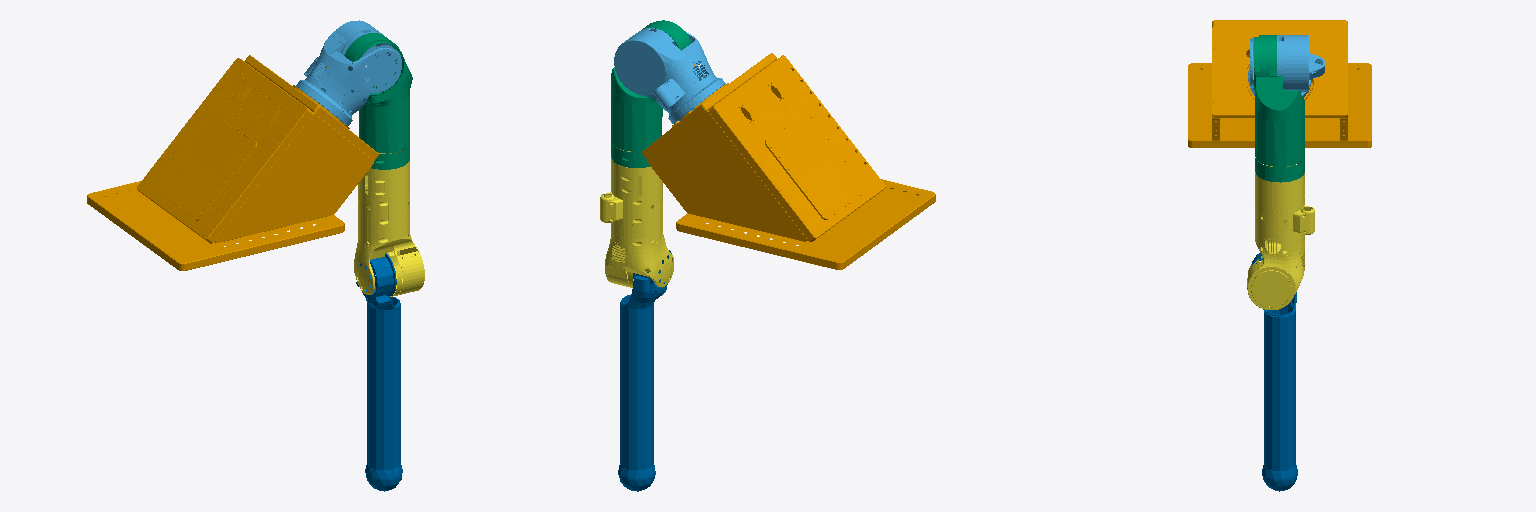
URDF robot description (nadia):
<?xml version = "1.0" ?>
<robot name="nadia" xmlns:xacro="http://www.ros.org/wiki/xacro">
<joint name="LEFT_SHOULDER_Y" type="revolute">
    <origin rpy="0.78539816 0.0  -1.57079632679" xyz="0.13144909 0 0.11023589" />
    <axis xyz="0.0 1.0 0.0" />
    <parent link="TORSO_LINK" />
    <child link="LEFT_SHOULDER_PITCH_LINK" />
    <limit effort="1000" lower="-3.141592" upper="1.22173" velocity = "100" />
    <dynamics damping="0.05" friction="0.0"/>
</joint>
<joint name="LEFT_SHOULDER_X" type="revolute">
    <origin rpy="-0.785398163 0.0 0.0" xyz="0.0 0.15676000 -0.01300000" />
    <axis xyz="1 0 0" />
    <parent link="LEFT_SHOULDER_PITCH_LINK" />
    <child link="LEFT_SHOULDER_ROLL_LINK" />
    <limit effort="1000" lower="-0.261799" upper="2.87979" velocity = "100" />
    <dynamics damping="0.05" friction="0.0"/>
</joint>
<joint name="LEFT_SHOULDER_Z" type="revolute">
    <origin rpy="0.0 0.0 0.0" xyz="0.0 0.035 0.0" />
    <axis xyz="0.0 0.0 1.0" />
    <parent link="LEFT_SHOULDER_ROLL_LINK" />
    <child link="LEFT_SHOULDER_YAW_LINK" />
    <limit effort="1000" lower="-1.91986" upper="1.22173" velocity = "100" />
    <dynamics damping="0.05" friction="0.0"/>
</joint>
<joint name="LEFT_ELBOW_Y" type="revolute">
    <origin rpy="0.0 0.0 0.0" xyz="0.015 0.0 -0.4" />
    <axis xyz="0.0 1.0 0.0" />
    <parent link="LEFT_SHOULDER_YAW_LINK" />
    <child link="LEFT_ELBOW_PITCH_LINK" />
    <limit effort="1000" lower="-2.35619" upper="0.174532925" velocity = "100" />
    <dynamics damping="0.05" friction="0.0"/>
</joint>
<link name="TORSO_LINK">
  <inertial>
    <mass value="13.75252575"/>
    <origin rpy="0 0 0" xyz="0.0488461900 0.0000587900 0.0707804300"/>
    <inertia ixx="0.1666638600" ixy="-0.0000199200" ixz="-0.0578881300" iyy="0.2305939100" iyz="-0.0000724700" izz="0.2604723800" />
	
  </inertial>
  <visual>
    <geometry>
      <mesh filename="package://nadia_V17_description/meshes/cycloidal_arm/TORSO_LINK.obj"/>
    </geometry>
    <origin rpy="0.0 0.0 0.0" xyz="0.0 0.0 0.0"/>
  </visual>
</link>
<link name="LEFT_SHOULDER_PITCH_LINK">
  <inertial>
    <mass value="2.917"/>
    <origin rpy="0 0 0" xyz="-0.00117 0.1400097 -0.00621"/>
    <inertia ixx="0.0108367" ixy="1.356e-4" ixz="-2.666e-5" iyy="0.00498324" iyz="0.00090758" izz="0.01142661" />
  </inertial>
  <visual>
    <geometry>
      <mesh filename="package://nadia_V17_description/meshes/cycloidal_arm/LEFT_SHOULDER_PITCH_LINK.obj"/>
    </geometry>
    <origin rpy="0.0 0.0 0.0" xyz="0.0 0.0 0.0"/>
  </visual>
</link>


<link name="LEFT_SHOULDER_ROLL_LINK">
  <inertial>
    <mass value="1.17068"/>
    <origin rpy="0 0 0" xyz="0.01053 0.02124 -0.1052690"/>
    <inertia ixx="0.00787035" ixy="1.667e-4" ixz="-0.00075945" iyy="0.00727481" iyz="0.000988837" izz="0.00182144" />
  </inertial>
  <visual>
    <geometry>
      <mesh filename="package://nadia_V17_description/meshes/cycloidal_arm/LEFT_SHOULDER_ROLL_LINK.obj"/>
    </geometry>
    <origin rpy="0.0 0.0 0.0" xyz="0.0 0.0 0.0"/>
  </visual>
</link>
<link name="LEFT_SHOULDER_YAW_LINK">
  <inertial>
    <mass value="2.53059"/>
    <origin rpy="0 0 0" xyz="0.00479 0.00062 -0.3624141"/>
    <inertia ixx="0.02277422" ixy="5.053e-5" ixz="0.0012266" iyy="0.0225956" iyz="-2.571e-4" izz="0.00260312" />
  </inertial>
  <visual>
    <geometry>
      <mesh filename="package://nadia_V17_description/meshes/cycloidal_arm/LEFT_SHOULDER_YAW_LINK.obj"/>
    </geometry>
    <origin rpy="0.0 0.0 0.0" xyz="0.0 0.0 0.0"/>
  </visual>
</link>
<link name="LEFT_ELBOW_PITCH_LINK">
  <inertial>
    <mass value="0.6007"/>
    <origin rpy="0 0 0" xyz="-0.01090935 -0.01147189 -0.10388715"/>
    <inertia ixx="0.00760733" ixy="2.242e-5" ixz="-2.583e-4" iyy="0.00767556" iyz="0.00061995" izz="4.554e-4" />
  </inertial>
  <visual>
    <geometry>
      <mesh filename="package://nadia_V17_description/meshes/cycloidal_arm/LEFT_ELBOW_PITCH_LINK_413mm_LENGTH.obj"/>
    </geometry>
    <origin rpy="0.0 0.0 0.0" xyz="0.0 0.0 0.0"/>
  </visual>
</link>




<!-- Preview robot -->
<joint name="PREVIEW_LEFT_SHOULDER_Y" type="revolute">
    <origin rpy="0.78539816 0.0  -1.57079632679" xyz="0.13144909 0 0.11023589" />
    <axis xyz="0.0 1.0 0.0" />
    <parent link="TORSO_LINK" />
    <child link="PREVIEW_LEFT_SHOULDER_PITCH_LINK" />
    <limit effort="1000" lower="-3.141592" upper="1.22173" velocity = "100" />
    <dynamics damping="0.05" friction="0.0"/>
</joint>
<joint name="PREVIEW_LEFT_SHOULDER_X" type="revolute">
    <origin rpy="-0.785398163 0.0 0.0" xyz="0.0 0.15676000 -0.01300000" />
    <axis xyz="1 0 0" />
    <parent link="PREVIEW_LEFT_SHOULDER_PITCH_LINK" />
    <child link="PREVIEW_LEFT_SHOULDER_ROLL_LINK" />
    <limit effort="1000" lower="-0.261799" upper="2.87979" velocity = "100" />
    <dynamics damping="0.05" friction="0.0"/>
</joint>
<joint name="PREVIEW_LEFT_SHOULDER_Z" type="revolute">
    <origin rpy="0.0 0.0 0.0" xyz="0.0 0.035 0.0" />
    <axis xyz="0.0 0.0 1.0" />
    <parent link="PREVIEW_LEFT_SHOULDER_ROLL_LINK" />
    <child link="PREVIEW_LEFT_SHOULDER_YAW_LINK" />
    <limit effort="1000" lower="-1.91986" upper="1.22173" velocity = "100" />
    <dynamics damping="0.05" friction="0.0"/>
</joint>
<joint name="PREVIEW_LEFT_ELBOW_Y" type="revolute">
    <origin rpy="0.0 0.0 0.0" xyz="0.015 0.0 -0.4" />
    <axis xyz="0.0 1.0 0.0" />
    <parent link="PREVIEW_LEFT_SHOULDER_YAW_LINK" />
    <child link="PREVIEW_LEFT_ELBOW_PITCH_LINK" />
    <limit effort="1000" lower="-2.35619" upper="0.174532925" velocity = "100" />
    <dynamics damping="0.05" friction="0.0"/>
</joint>

<link name="PREVIEW_LEFT_SHOULDER_PITCH_LINK">
  <inertial>
    <mass value="2.917"/>
    <origin rpy="0 0 0" xyz="-0.00117 0.11905 -0.00621"/>
    <inertia ixx="0.0108367" ixy="1.356e-4" ixz="-2.666e-5" iyy="0.00498324" iyz="0.00090758" izz="0.01142661" />
  </inertial>
  <visual>
    <geometry>
      <mesh filename="package://nadia_V17_description/meshes/cycloidal_arm/LEFT_SHOULDER_PITCH_LINK.obj"/>
    </geometry>
    <origin rpy="0.0 0.0 0.0" xyz="0.0 0.0 0.0"/>
  </visual>
</link>
<link name="PREVIEW_LEFT_SHOULDER_ROLL_LINK">
 <inertial>
    <mass value="1.17068"/>
    <origin rpy="0 0 0" xyz="0.01053 0.02124 -0.07298"/>
    <inertia ixx="0.00787035" ixy="1.667e-4" ixz="-0.00075945" iyy="0.00727481" iyz="0.000988837" izz="0.00182144" />    
  </inertial>
  <visual>
    <geometry>
      <mesh filename="package://nadia_V17_description/meshes/cycloidal_arm/LEFT_SHOULDER_ROLL_LINK.obj"/>
    </geometry>
    <origin rpy="0.0 0.0 0.0" xyz="0.0 0.0 0.0"/>
  </visual>
</link>
<link name="PREVIEW_LEFT_SHOULDER_YAW_LINK">
  <inertial>
    <mass value="2.53059"/>
    <origin rpy="0 0 0" xyz="0.00479 0.00062 -0.30231"/>
    <inertia ixx="0.02277422" ixy="5.053e-5" ixz="0.0012266" iyy="0.0225956" iyz="-2.571e-4" izz="0.00260312" />
  </inertial>
  <visual>
    <geometry>
      <mesh filename="package://nadia_V17_description/meshes/cycloidal_arm/LEFT_SHOULDER_YAW_LINK.obj"/>
    </geometry>
    <origin rpy="0.0 0.0 0.0" xyz="0.0 0.0 0.0"/>
  </visual>
</link>
<link name="PREVIEW_LEFT_ELBOW_PITCH_LINK">
   <inertial>
    <mass value="0.6007"/>
    <origin rpy="0 0 0" xyz="-0.01090935 -0.01147189 -0.10656216"/>
    <inertia ixx="0.00760733" ixy="2.242e-5" ixz="-2.583e-4" iyy="0.00767556" iyz="0.00061995" izz="4.554e-4" />
  </inertial>
  <visual>
    <geometry>
      <mesh filename="package://nadia_V17_description/meshes/cycloidal_arm/LEFT_ELBOW_PITCH_LINK_413mm_LENGTH.obj"/>
    </geometry>
    <origin rpy="0.0 0.0 0.0" xyz="0.0 0.0 0.0"/>
  </visual>
</link>
<!-- IMU Information --> 
<link name="shoulderPitchIMU_Frame">
    <inertial>
      <mass value="1e-07"/>
      <origin rpy="0 0 0" xyz="0 0 0"/>
      <inertia ixx="3.3333333333333322e-22" ixy="0.0" ixz="0.0" iyy="3.3333333333333322e-22" iyz="0.0" izz="4.999999999999999e-22"/>
    </inertial>
</link>
<joint name="shoulderPitchIMU_Offset" type="fixed">
	<origin rpy="-1.570796 1.570796 0" xyz="0.0174 0.06944 -0.03025"/>
	<axis xyz="0 0 1"/>
	<parent link="LEFT_SHOULDER_PITCH_LINK"/>
	<child link="shoulderPitchIMU_Frame"/>
</joint>
<gazebo reference="shoulderPitchIMU_Offset">
    <implicitSpringDamper>1</implicitSpringDamper>
</gazebo>
<gazebo>
<plugin filename="libgazebo_ros_imu.so" name="imu_plugin_ros">
  <alwaysOn>true</alwaysOn>
  <bodyName>shoulderPitchIMU_Frame</bodyName>
  <topicName>shoulderPitchIMU/imu</topicName>
  <serviceName>shoulderPitchIMU/imu_service</serviceName>
  <gaussianNoise>0.0</gaussianNoise>
  <updateRate>1000.0</updateRate>
</plugin>
</gazebo>
<gazebo reference="shoulderPitchIMU_Frame">

<!-- Note: in CAD this is the shoulder roll IMU since it's connected to the shoulder roll ethersnacks board -->
<sensor name="shoulderPitchIMU" type="imu">
  <imuTransform>0.0174 0.06944 -0.03025 -1.570796 1.570796 0</imuTransform>
  <always_on>true</always_on>
  <pose>0 0 0 0 0 0 </pose>
  <node name="/sensors/shoulderPitchIMU"/>
  <api name="IMU_ICM42688P_Sensor::IMU_ICM42688P_Sensor"/>
  <port name="/dev/ttyS4"/>
  <imu>
	<noise>
	  <type>gaussian</type>
	  <rate>
		<mean>0</mean>
		<stddev>0.0002</stddev>
		<bias_mean>7.5e-06</bias_mean>
		<bias_stddev>8e-07</bias_stddev>
	  </rate>
	  <accel>
		<mean>0</mean>
		<stddev>0.017</stddev>
		<bias_mean>0.1</bias_mean>
		<bias_stddev>0.001</bias_stddev>
	  </accel>
	</noise>
  </imu>
</sensor>
</gazebo>

<!-- ShoulderYaw IMU -->
<!-- Note: in CAD this is the left bicep IMU -->
<link name="ShoulderYawIMU_Frame">
    <!-- Virtual Link  -->
    <inertial>
      <mass value="1e-07"/>
      <origin rpy="0 0 0" xyz="0 0 0"/>
      <inertia ixx="3.3333333333333322e-22" ixy="0.0" ixz="0.0" iyy="3.3333333333333322e-22" iyz="0.0" izz="4.999999999999999e-22"/>
    </inertial>
 </link>
<joint name="ShoulderYawIMU_Offset" type="fixed">
	<origin rpy="-1.570796 3.1415926 -0.314159" xyz="-0.00763459 -0.0123324 -0.318"/>
	<axis xyz="0 0 1"/>
	<parent link="LEFT_SHOULDER_YAW_LINK"/> 
	<child link="ShoulderYawIMU_Frame"/>
</joint>
<gazebo reference="ShoulderYawIMU_Offset">
	<implicitSpringDamper>1</implicitSpringDamper>
</gazebo>
<gazebo>
<plugin filename="libgazebo_ros_imu.so" name="imu_plugin_ros">
  <alwaysOn>true</alwaysOn>
  <bodyName>ShoulderYawIMU_Frame</bodyName>
  <topicName>ShoulderYawIMU/imu</topicName>
  <serviceName>ShoulderYawIMU/imu_service</serviceName>
  <gaussianNoise>0.0</gaussianNoise>
  <updateRate>1000.0</updateRate>
</plugin>
</gazebo>
<gazebo reference="ShoulderYawIMU_Frame">
<sensor name="ShoulderYawIMU" type="imu">
  <imuTransform>-0.00763459 -0.0123324 -0.318 -1.570796 3.1415926 -0.314159</imuTransform>
  <always_on>true</always_on>
  <pose>0 0 0 0 0 0 </pose>
  <node name="/sensors/ShoulderYawIMU"/>
  <api name="IMU_ICM42688P_Sensor::IMU_ICM42688P_Sensor"/>
  <port name="/dev/ttyS4"/>
  <imu>
	<noise>
	  <type>gaussian</type>
	  <rate>
		<mean>0</mean>
		<stddev>0.0002</stddev>
		<bias_mean>7.5e-06</bias_mean>
		<bias_stddev>8e-07</bias_stddev>
	  </rate>
	  <accel>
		<mean>0</mean>
		<stddev>0.017</stddev>
		<bias_mean>0.1</bias_mean>
		<bias_stddev>0.001</bias_stddev>
	  </accel>
	</noise>
  </imu>
</sensor>
</gazebo>
</robot>

--- What the picture shows (computed from the rendered views, not written in the file) ---
The picture shows the robot from 3 angles, left to right: view 1: azimuth 30°, elevation 25°; view 2: azimuth 150°, elevation 25°; view 3: azimuth 270°, elevation 25°; orthographic projection.
Robot: nadia — 11 links, 10 joints (8 revolute, 2 fixed); root link TORSO_LINK; default pose: every joint at zero.
Links seen in each view (by area): view 1: TORSO_LINK, LEFT_ELBOW_PITCH_LINK, LEFT_SHOULDER_YAW_LINK, LEFT_SHOULDER_PITCH_LINK, LEFT_SHOULDER_ROLL_LINK; view 2: TORSO_LINK, LEFT_ELBOW_PITCH_LINK, LEFT_SHOULDER_YAW_LINK, LEFT_SHOULDER_PITCH_LINK, LEFT_SHOULDER_ROLL_LINK; view 3: TORSO_LINK, LEFT_SHOULDER_YAW_LINK, LEFT_ELBOW_PITCH_LINK, LEFT_SHOULDER_ROLL_LINK, LEFT_SHOULDER_PITCH_LINK.
Link boxes in pixels (bbox=[...]): TORSO_LINK: bbox=[87, 55, 378, 270]; LEFT_ELBOW_PITCH_LINK: bbox=[356, 253, 402, 491]; LEFT_SHOULDER_YAW_LINK: bbox=[354, 151, 424, 296]; LEFT_SHOULDER_PITCH_LINK: bbox=[296, 20, 401, 125]; LEFT_SHOULDER_ROLL_LINK: bbox=[344, 33, 412, 169]; TORSO_LINK: bbox=[642, 53, 935, 269]; LEFT_ELBOW_PITCH_LINK: bbox=[618, 250, 671, 491]; LEFT_SHOULDER_YAW_LINK: bbox=[600, 149, 673, 287]; LEFT_SHOULDER_PITCH_LINK: bbox=[614, 28, 725, 123]; LEFT_SHOULDER_ROLL_LINK: bbox=[611, 20, 690, 167]; TORSO_LINK: bbox=[1188, 20, 1371, 147]; LEFT_SHOULDER_YAW_LINK: bbox=[1247, 165, 1314, 309]; LEFT_ELBOW_PITCH_LINK: bbox=[1252, 253, 1297, 491]; LEFT_SHOULDER_ROLL_LINK: bbox=[1254, 35, 1304, 182]; LEFT_SHOULDER_PITCH_LINK: bbox=[1248, 35, 1324, 97].
Bounding box of the posed robot: 0.5399 × 0.325 × 0.8633 m (x, y, z).
Meshes: 5 distinct files referenced, 9 mesh visuals loaded (5 OBJ).
